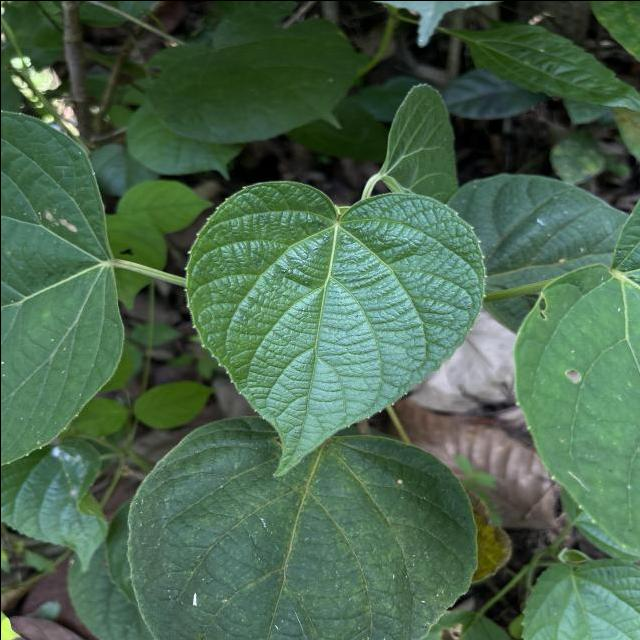Clerodendrum infortunatum: (176, 176, 488, 482)
